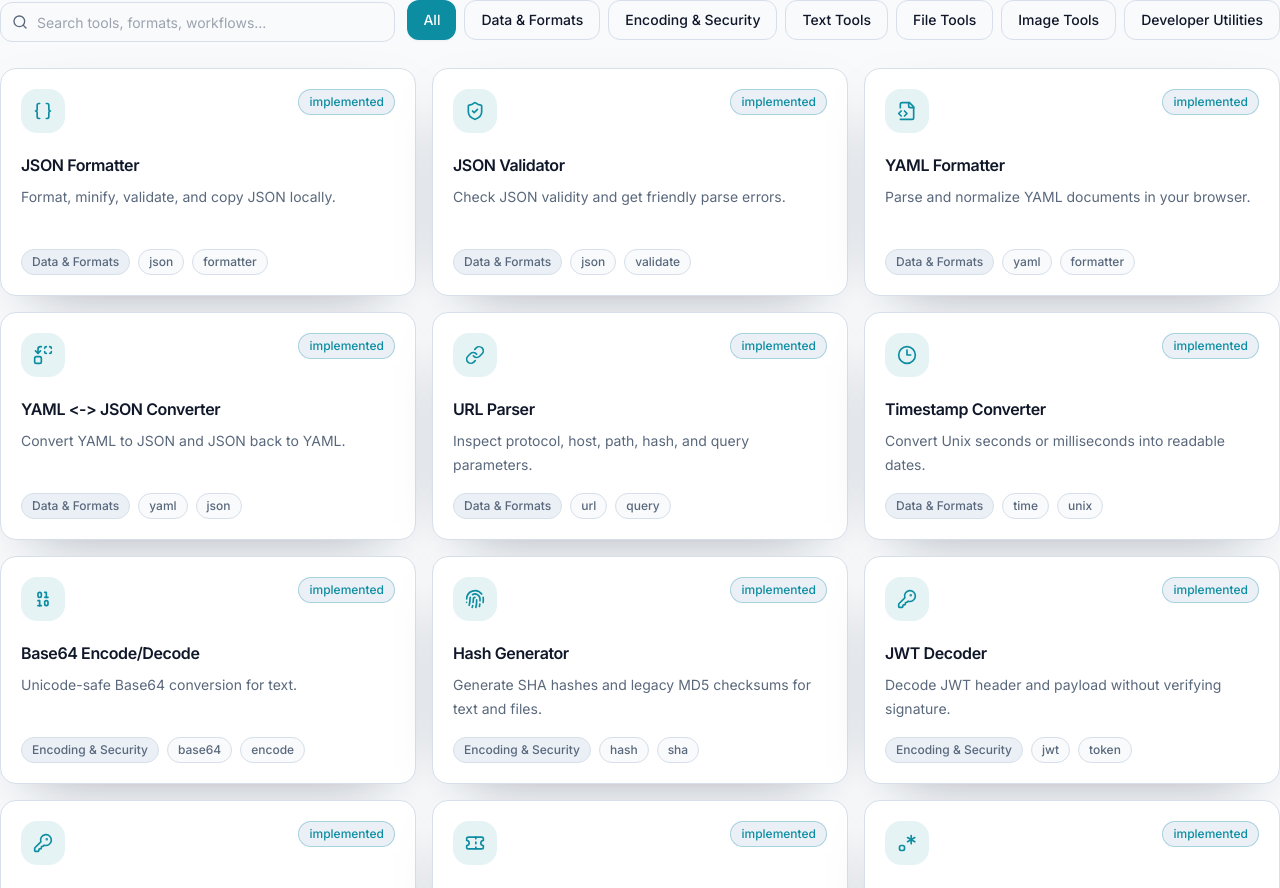
Test: ToolSearch › filters tools by category button
What coordinates should you click on to do the following:
click the button "Image Tools"
I would click on:
 (1059, 20)
Its box is top-left (1001, 0), bottom-right (1116, 40).
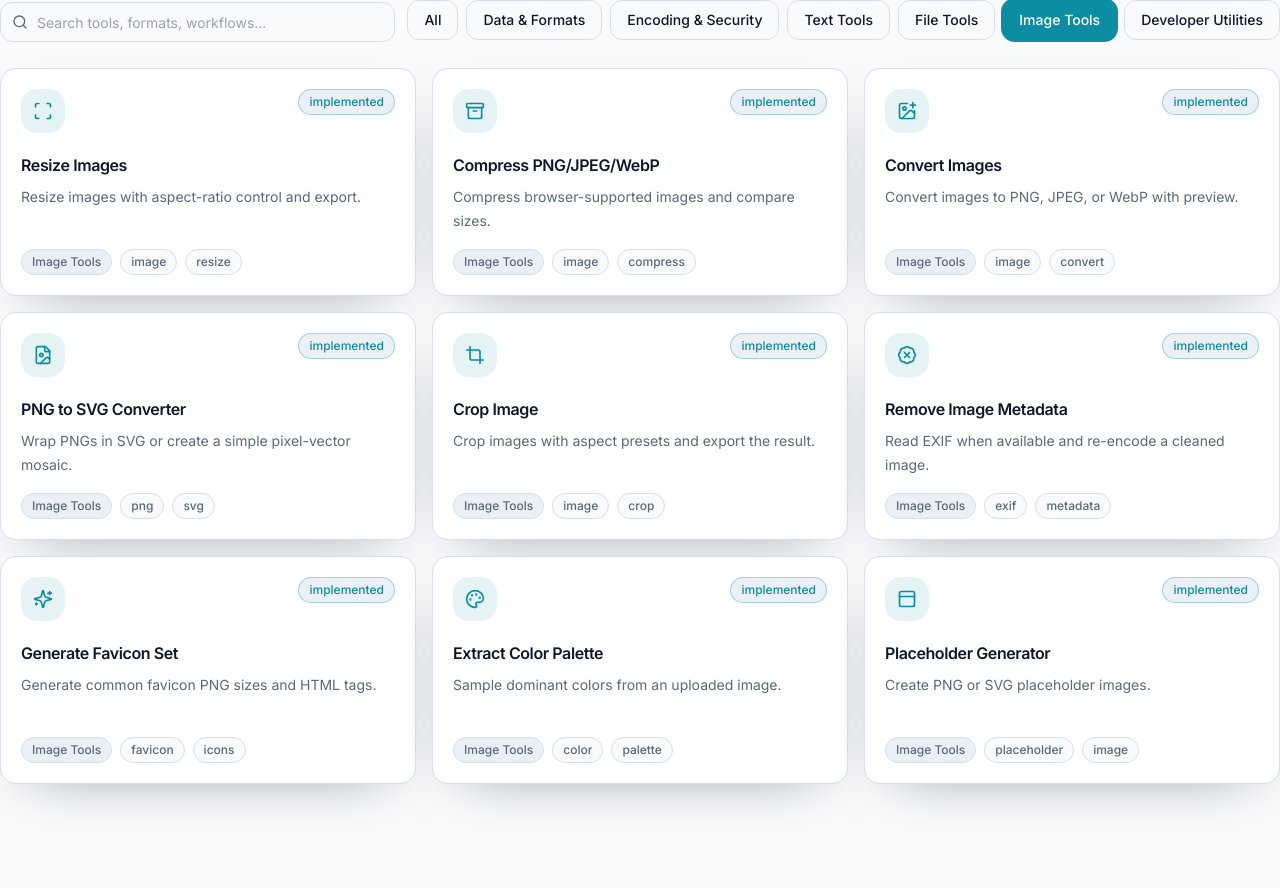
Expected: the heading "Resize Images" is shown, top-left (21, 155), bottom-right (127, 175)
Now the link "JSON Formatter" is gone
Now the number of headings is 9
